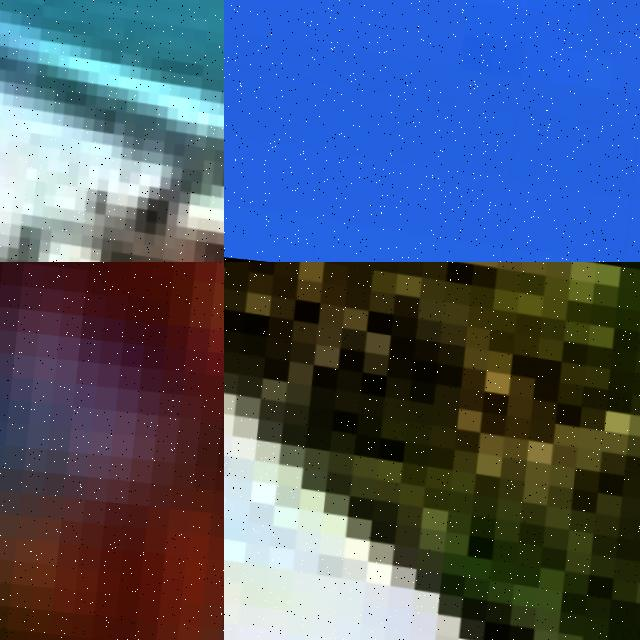0: (224, 262, 640, 640), (0, 0, 224, 262)
drone: (224, 0, 640, 262)
